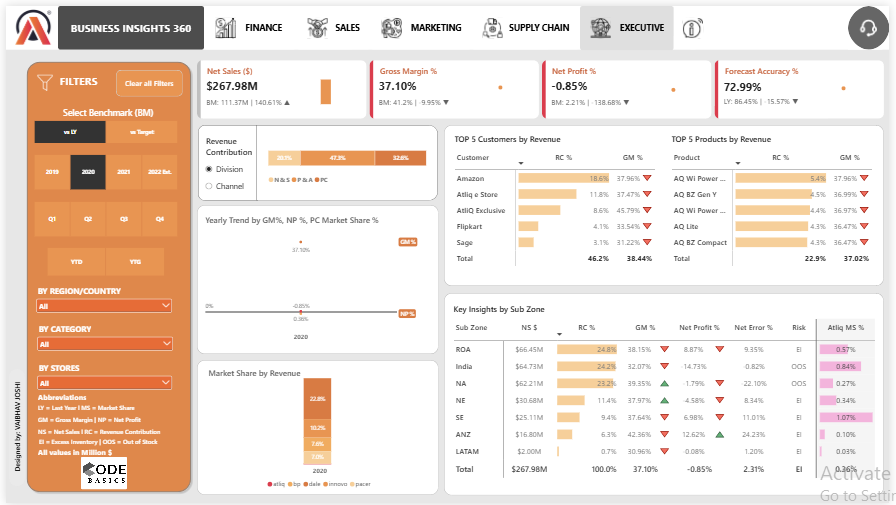

The dashboard page shown, as its layout file describes it:
{"tool":"powerbi","page":{"name":"Executive View","canvas":[1920,1080],"ordinal":5},"visuals":[{"type":"shape","box":[38.1,114.3,369,947.6],"z":0},{"type":"group","id":"g1","title":"Group 3","box":[70,860.7,275,74.3],"z":0,"group":"g2"},{"type":"shape","box":[70.3,860.7,250,24],"z":0,"group":"g1"},{"type":"shape","box":[952,624,956,440],"z":1000},{"type":"shape","box":[70,832.2,237.5,33.8],"z":1000,"group":"g2"},{"type":"shape","box":[70,887,264.3,22.9],"z":1000,"group":"g1"},{"type":"shape","box":[952,258,956,350],"z":2000},{"type":"shape","box":[70,912.1,275,22.9],"z":2000,"group":"g1"},{"type":"shape","box":[72,934,264,24],"z":3000},{"type":"shape","box":[415,770,525,293.3],"z":4000},{"type":"shape","box":[415.6,433.3,525,324],"z":5000},{"type":"shape","box":[417.8,257.8,130,165],"z":6000},{"type":"cardVisual","fields":{"Data":["Key Measures.Net sales $","Key Measures.Gross margin %","Key Measures.Net profit %","Key Measures.Forecast Accuracy %"]},"box":[415,117.5,1497,128],"z":7000},{"type":"pivotTable","title":"Key Insights by Sub Zone","fields":{"Rows":["sub_zone.sub_zone"],"Values":["Key Measures.Net sales $","Key Measures.RC %","Key Measures.Gross margin %","Key Measures.Net profit %","Key Measures.Net Error %","Key Measures.Risk","Key Measures.Atliq MS %"]},"box":[960,634,942,416],"z":8000},{"type":"lineClusteredColumnComboChart","title":"Yearly Trend by GM%, NP %, PC Market Share %","fields":{"Category":["Fiscal Year.FY_desc"],"Y2":["Key Measures.Gross margin %","Key Measures.Net profit %","Key Measures.Atliq MS %"]},"box":[417.8,440,520,311.1],"z":9000},{"type":"ribbonChart","title":"Market Share % by Manufacturer","fields":{"Category":["Fiscal Year.FY_desc"],"Series":["marketshare.Manufacturer"],"Y":["Key Measures.Market Share %"]},"box":[381.7,778.3,600,291.7],"z":10000},{"type":"pivotTable","title":"TOP 5 Customers by Revenue","fields":{"Rows":["dim_customer.customer"],"Values":["Key Measures.RC %","Key Measures.Gross margin %"]},"box":[962,266,470,338],"z":11000},{"type":"textbox","box":[1830,0,90,95],"z":12000},{"type":"textbox","box":[0,0,1905,95],"z":13000},{"type":"image","box":[15,7.5,90,77.5],"z":14000},{"type":"actionButton","box":[112.5,0,317.5,95],"z":15000},{"type":"actionButton","box":[432.5,0,197.5,95],"z":16000},{"type":"actionButton","box":[632.5,0,157.5,95],"z":17000},{"type":"actionButton","box":[792.5,0,217.5,95],"z":18000},{"type":"actionButton","box":[1012.5,0,232.5,95],"z":19000},{"type":"actionButton","box":[1248,0,204,96],"z":20000},{"type":"actionButton","box":[1830,0,90,95],"z":21000},{"type":"actionButton","box":[1455,0,77.5,95],"z":22000},{"type":"shape","box":[70,956,238,26],"z":23000},{"type":"slicer","fields":{"Values":["dim_date.Quarter"]},"box":[40.5,423.8,350,78.6],"z":24000},{"type":"slicer","fields":{"Values":["dim_date.YTD_YTG"]},"box":[69,523.8,292.9,64.3],"z":25000},{"type":"slicer","fields":{"Values":["dim_market.region","dim_market.market"]},"box":[61.9,605.8,304.8,78.6],"z":26000},{"type":"slicer","fields":{"Values":["dim_customer.customer"]},"box":[62.5,774.5,302.5,77.5],"z":27000},{"type":"slicer","fields":{"Values":["dim_product.category"]},"box":[62.5,689.5,305,80],"z":28000},{"type":"slicer","fields":{"Values":["Set BM.Benchmarks"]},"box":[40.5,247.6,350,52],"z":29000},{"type":"actionButton","box":[240,140,145,57.5],"z":30000},{"type":"textbox","title":"FILTERS","box":[104.8,147.6,107.1,35.7],"z":31000},{"type":"image","box":[61.9,147.6,47.6,38.1],"z":32000},{"type":"slicer","fields":{"Values":["Fiscal Year.FY_desc"]},"box":[40.5,322.2,350,78.6],"z":33000},{"type":"textbox","title":"Select Benchmark (BM)","box":[78.6,219,288.1,38.1],"z":34000},{"type":"image","box":[162.5,980,100,70],"z":35000},{"type":"group","id":"g2","title":"Group 5","box":[70,832.2,275,102.8],"z":36000},{"type":"actionButton","title":"AB Signature","box":[7.5,790,35,255],"z":37000},{"type":"shape","box":[1562.5,123,240,32.5],"z":38000},{"type":"shape","box":[437.5,123,240,31.7],"z":39000},{"type":"shape","box":[812.5,123,240,32.5],"z":40000},{"type":"shape","box":[1187.5,123,240,32.5],"z":41000},{"type":"clusteredColumnChart","fields":{"Category":["Fiscal Year.FY_desc"],"Y":["Key Measures.Net sales $"]},"box":[615.6,131.1,164.4,100],"z":42000},{"type":"areaChart","fields":{"Category":["Fiscal Year.FY_desc"],"Y":["Key Measures.Gross margin %"]},"box":[984.4,131.1,180,100],"z":43000},{"type":"areaChart","fields":{"Category":["Fiscal Year.FY_desc"],"Y":["Key Measures.Net profit %"]},"box":[1360,131.1,180,100],"z":44000},{"type":"areaChart","fields":{"Category":["Fiscal Year.FY_desc"],"Y":["Key Measures.Forecast Accuracy %"]},"box":[1728.9,131.1,185,100],"z":45000},{"type":"slicer","fields":{"Values":["Param Executive - Channel vs division.Param Executive - Channel vs division"]},"box":[424.4,335.6,112,80],"z":46000},{"type":"shape","box":[435.6,273.3,104,61],"z":47000},{"type":"shape","box":[544.4,257.8,395.6,164.4],"z":48000},{"type":"hundredPercentStackedBarChart","fields":{"Series":["dim_product.division"],"Y":["Key Measures.Net sales $"]},"box":[553.3,275.6,375,131.1],"z":49000},{"type":"shape","box":[431.7,776.7,215,40],"z":50000},{"type":"pivotTable","title":"TOP 5 Products by Revenue","fields":{"Rows":["dim_product.product"],"Values":["Key Measures.RC %","Key Measures.Gross margin %"]},"box":[1434,266,470,338],"z":51000},{"type":"shape","box":[1754,680,14,346],"z":52000}]}

Visuals, with their boxes on the page's 1920x1080 design canvas (x1, y1, x2, y2). These are canvas units, not pixel positions in the 896x505 screenshot, which may show the page scaled, cropped or inside an application window:
shape: Rect(38, 114, 407, 1062)
"Group 3" group: Rect(70, 861, 345, 935)
shape: Rect(70, 861, 320, 885)
shape: Rect(952, 624, 1908, 1064)
shape: Rect(70, 832, 308, 866)
shape: Rect(70, 887, 334, 910)
shape: Rect(952, 258, 1908, 608)
shape: Rect(70, 912, 345, 935)
shape: Rect(72, 934, 336, 958)
shape: Rect(415, 770, 940, 1063)
shape: Rect(416, 433, 941, 757)
shape: Rect(418, 258, 548, 423)
cardVisual - Key Measures.Net sales $ x Key Measures.Gross margin %: Rect(415, 118, 1912, 246)
"Key Insights by Sub Zone" pivotTable: Rect(960, 634, 1902, 1050)
"Yearly Trend by GM%, NP %, PC Market Share %" lineClusteredColumnComboChart: Rect(418, 440, 938, 751)
"Market Share % by Manufacturer" ribbonChart: Rect(382, 778, 982, 1070)
"TOP 5 Customers by Revenue" pivotTable: Rect(962, 266, 1432, 604)
textbox: Rect(1830, 0, 1920, 95)
textbox: Rect(0, 0, 1905, 95)
image: Rect(15, 8, 105, 85)
actionButton: Rect(112, 0, 430, 95)
actionButton: Rect(432, 0, 630, 95)
actionButton: Rect(632, 0, 790, 95)
actionButton: Rect(792, 0, 1010, 95)
actionButton: Rect(1012, 0, 1245, 95)
actionButton: Rect(1248, 0, 1452, 96)
actionButton: Rect(1830, 0, 1920, 95)
actionButton: Rect(1455, 0, 1532, 95)
shape: Rect(70, 956, 308, 982)
slicer - dim_date.Quarter: Rect(40, 424, 390, 502)
slicer - dim_date.YTD_YTG: Rect(69, 524, 362, 588)
slicer - dim_market.region x dim_market.market: Rect(62, 606, 367, 684)
slicer - dim_customer.customer: Rect(62, 774, 365, 852)
slicer - dim_product.category: Rect(62, 690, 368, 770)
slicer - Set BM.Benchmarks: Rect(40, 248, 390, 300)
actionButton: Rect(240, 140, 385, 198)
"FILTERS" textbox: Rect(105, 148, 212, 183)
image: Rect(62, 148, 110, 186)
slicer - Fiscal Year.FY_desc: Rect(40, 322, 390, 401)
"Select Benchmark (BM)" textbox: Rect(79, 219, 367, 257)
image: Rect(162, 980, 262, 1050)
"Group 5" group: Rect(70, 832, 345, 935)
"AB Signature" actionButton: Rect(8, 790, 42, 1045)
shape: Rect(1562, 123, 1802, 156)
shape: Rect(438, 123, 678, 155)
shape: Rect(812, 123, 1052, 156)
shape: Rect(1188, 123, 1428, 156)
clusteredColumnChart - Fiscal Year.FY_desc x Key Measures.Net sales $: Rect(616, 131, 780, 231)
areaChart - Fiscal Year.FY_desc x Key Measures.Gross margin %: Rect(984, 131, 1164, 231)
areaChart - Fiscal Year.FY_desc x Key Measures.Net profit %: Rect(1360, 131, 1540, 231)
areaChart - Fiscal Year.FY_desc x Key Measures.Forecast Accuracy %: Rect(1729, 131, 1914, 231)
slicer - Param Executive - Channel vs division.Param Executive - Channel vs division: Rect(424, 336, 536, 416)
shape: Rect(436, 273, 540, 334)
shape: Rect(544, 258, 940, 422)
hundredPercentStackedBarChart - dim_product.division x Key Measures.Net sales $: Rect(553, 276, 928, 407)
shape: Rect(432, 777, 647, 817)
"TOP 5 Products by Revenue" pivotTable: Rect(1434, 266, 1904, 604)
shape: Rect(1754, 680, 1768, 1026)
